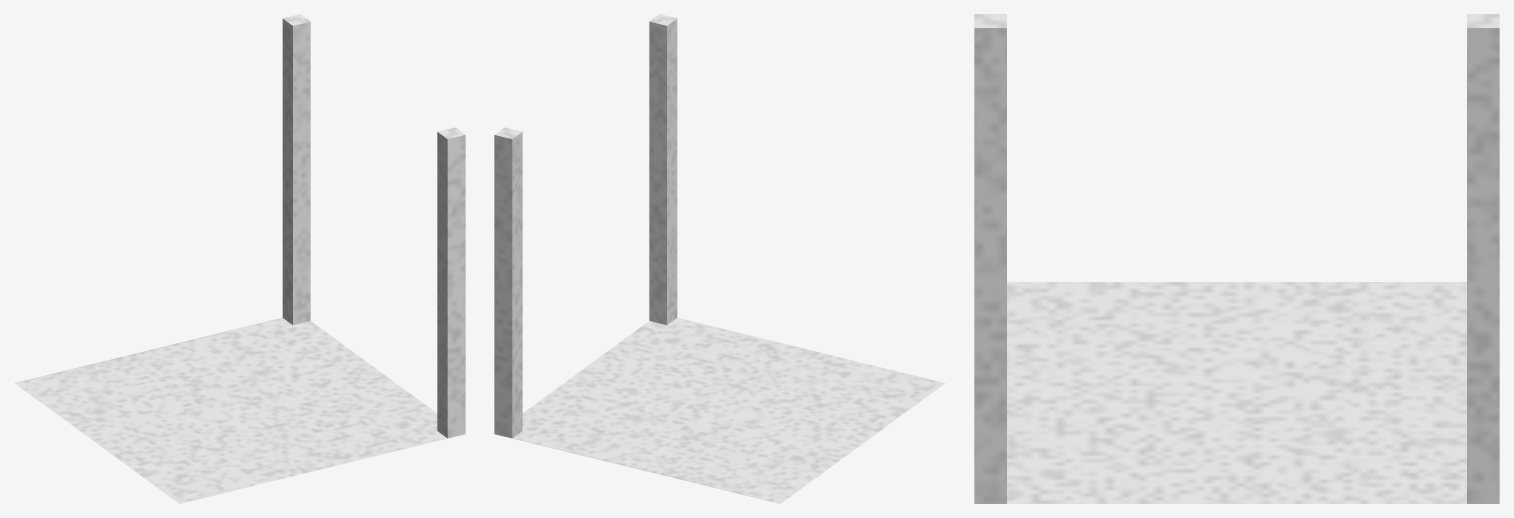
Rendered from wallOpening.fbx.
The picture shows the model from 3 angles, left to right: view 1: azimuth 30°, elevation 25°; view 2: azimuth 150°, elevation 25°; view 3: azimuth 270°, elevation 25°; orthographic projection. The views are drawn at different scales.
Parts seen in each view (by area): view 1: WallOpening1; view 2: WallOpening1; view 3: WallOpening1.
Boxes of the visible parts, x1,y1,x2,y2 form: WallOpening1: (14, 14, 465, 503); WallOpening1: (494, 14, 945, 503); WallOpening1: (974, 14, 1499, 503).
Size of the model in its own units: 4 by 4 by 4.
